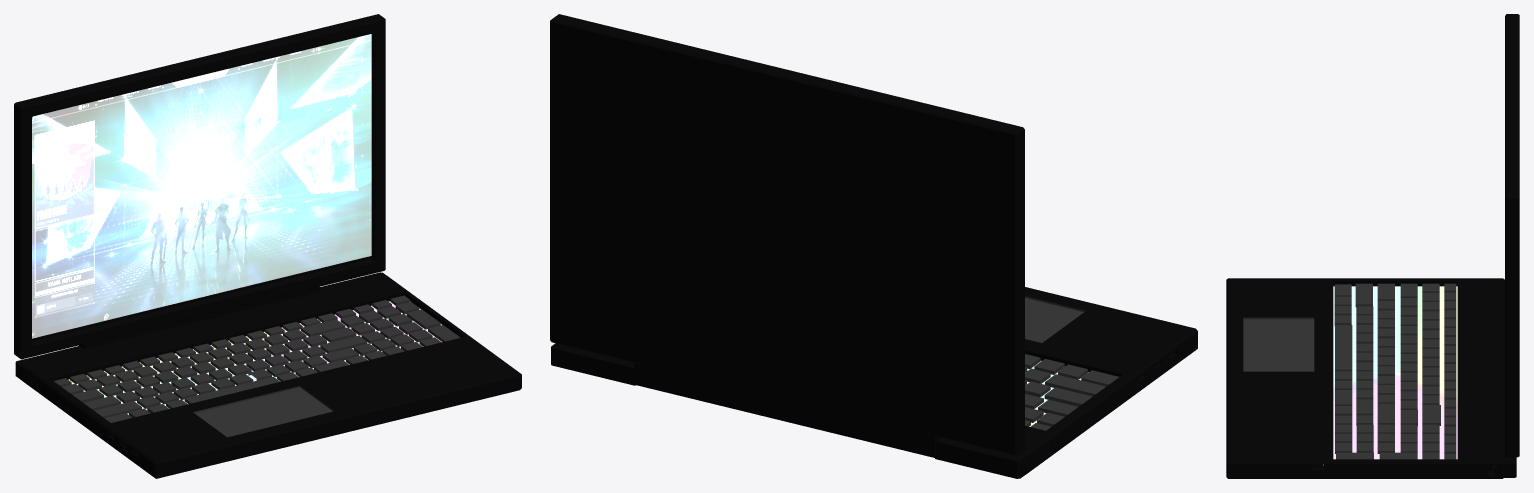
Rendered from laptop.glb.
The picture shows the model from 3 angles, left to right: view 1: azimuth 30°, elevation 25°; view 2: azimuth 150°, elevation 25°; view 3: azimuth 270°, elevation 25°; orthographic projection. The views are drawn at different scales.
Visible parts, largest first — view 1: Plane_0, Plane.001_5, Plane.003_1; view 2: Plane_0; view 3: Plane_0, Plane.003_1.
Part boxes in pixels (x1,y1,x2,y2): Plane_0: [14, 14, 521, 478]; Plane.001_5: [32, 34, 371, 338]; Plane.003_1: [68, 301, 441, 414]; Plane_0: [550, 14, 1197, 478]; Plane_0: [1226, 14, 1519, 478]; Plane.003_1: [1323, 286, 1457, 465].
Bounding box in the file's own units: 4.15 × 2.95 × 2.78.
4 materials, 1 textured.
